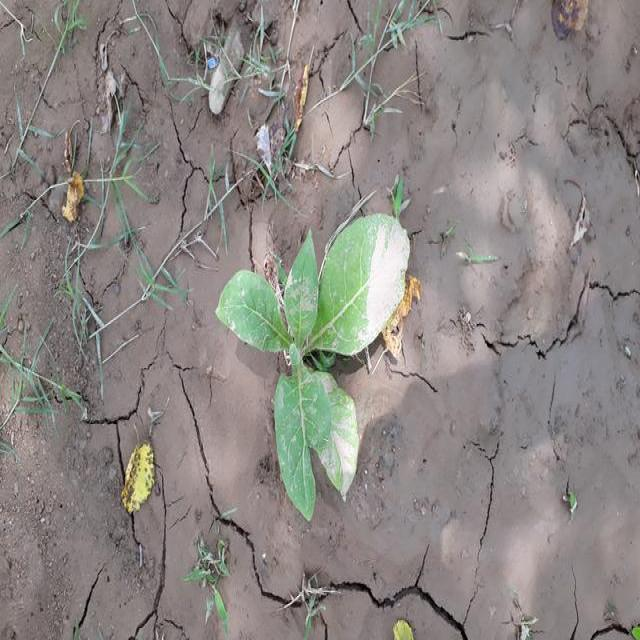crop: (216, 214, 414, 514)
